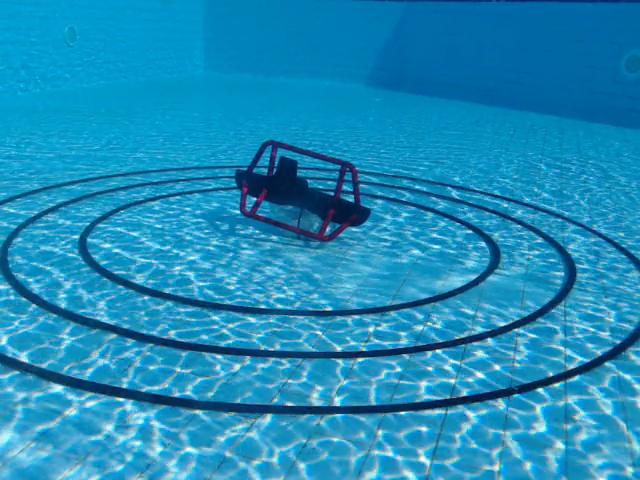submarine: (233, 138, 372, 244)
